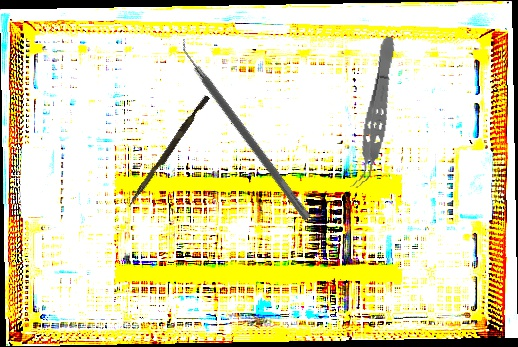Pusher: (127, 93, 210, 210)
Spatula Surgical: (172, 35, 320, 222)
Tissue Forceps: (349, 34, 402, 192)
